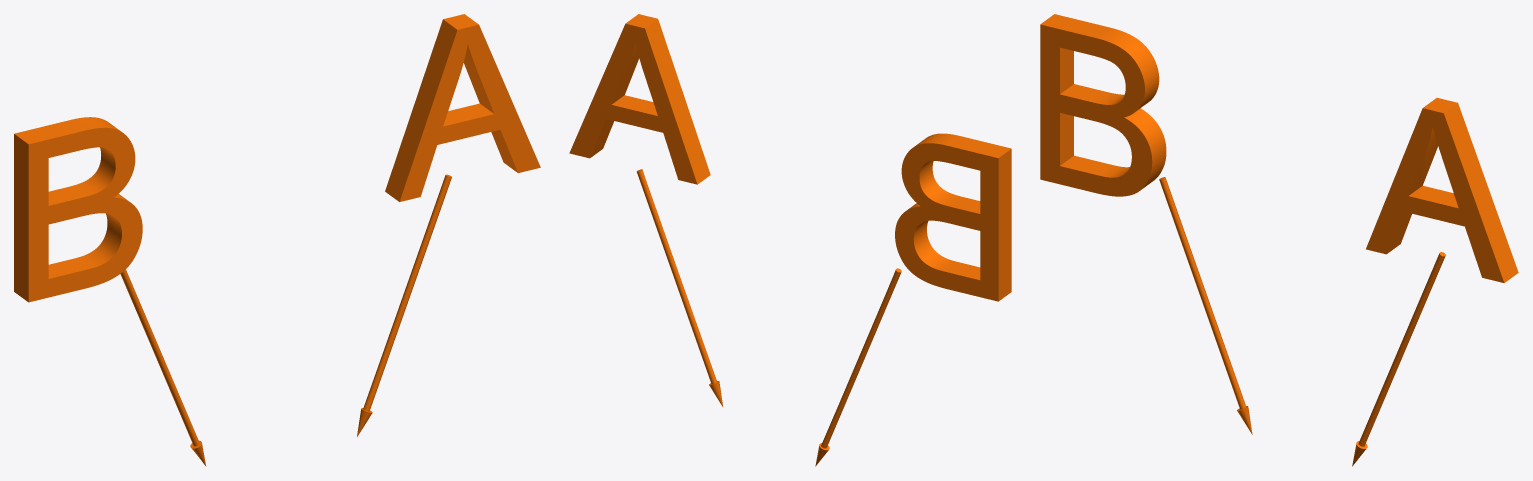
The model's file is 22arrow.glb.
3 views of the same model, side by side, from view 1: azimuth 30°, elevation 25°; view 2: azimuth 150°, elevation 25°; view 3: azimuth 330°, elevation 25° (orthographic). The views are drawn at different scales.
Parts seen in each view (by area): view 1: Node; view 2: Node; view 3: Node.
Boxes of the visible parts, x1,y1,x2,y2 form: Node: (14,14,540,466); Node: (569,14,1011,466); Node: (1040,14,1518,466).
Size of the model in its own units: 4.89 by 3.92 by 0.7218.
